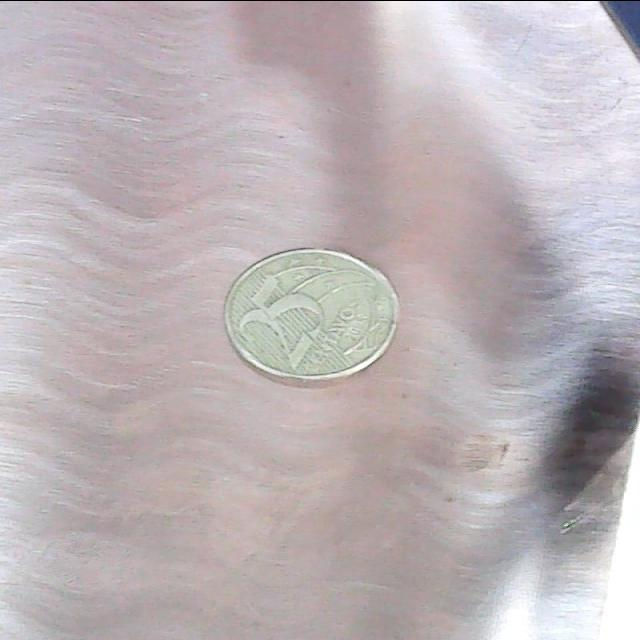25 cents: (214, 238, 408, 388)
